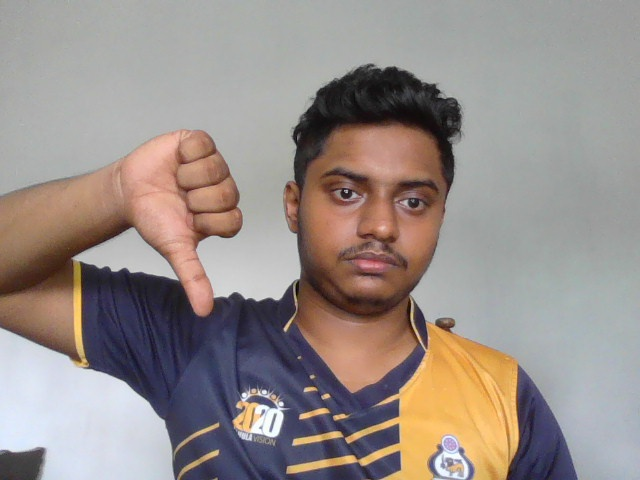Disagree: (117, 127, 245, 321)
